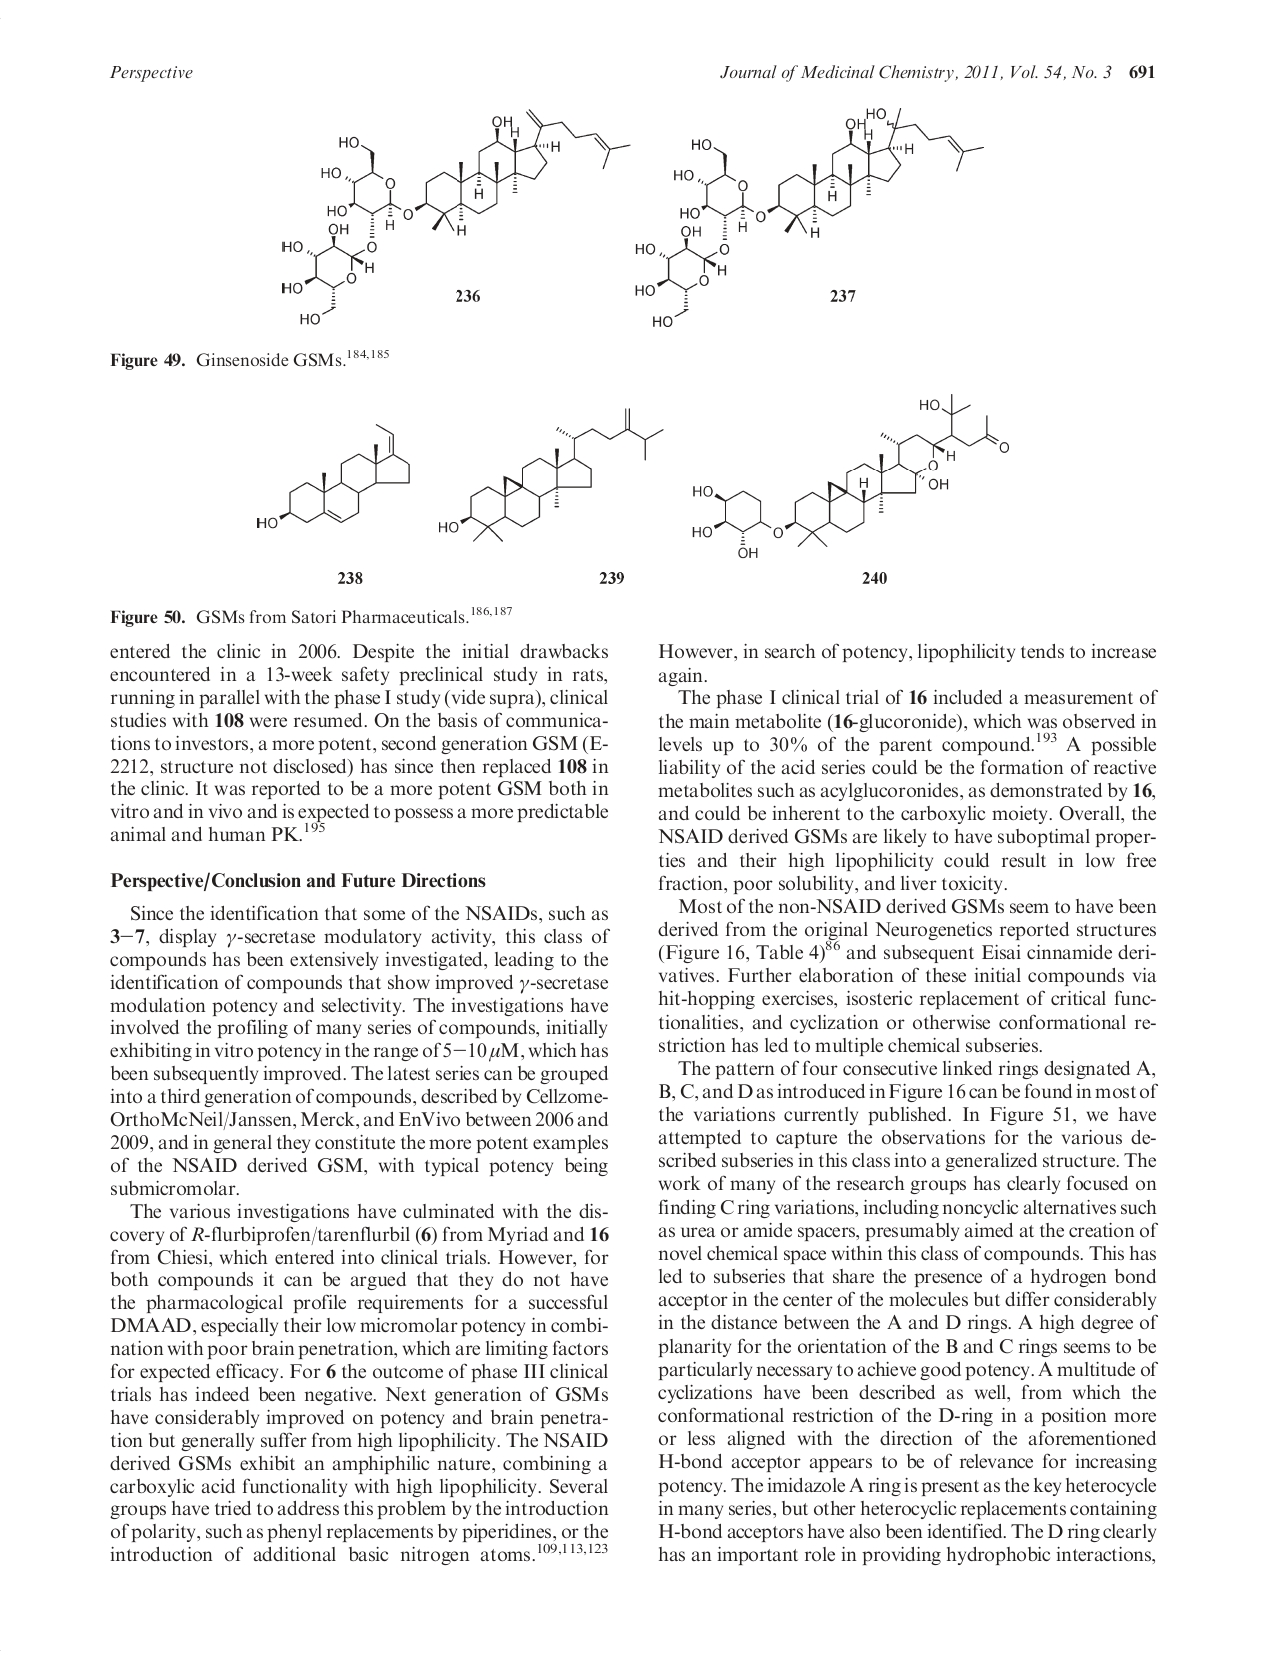exist_molecular: (630, 104, 987, 330), (275, 106, 630, 327), (688, 390, 1011, 563), (435, 402, 665, 543), (251, 418, 414, 539)
